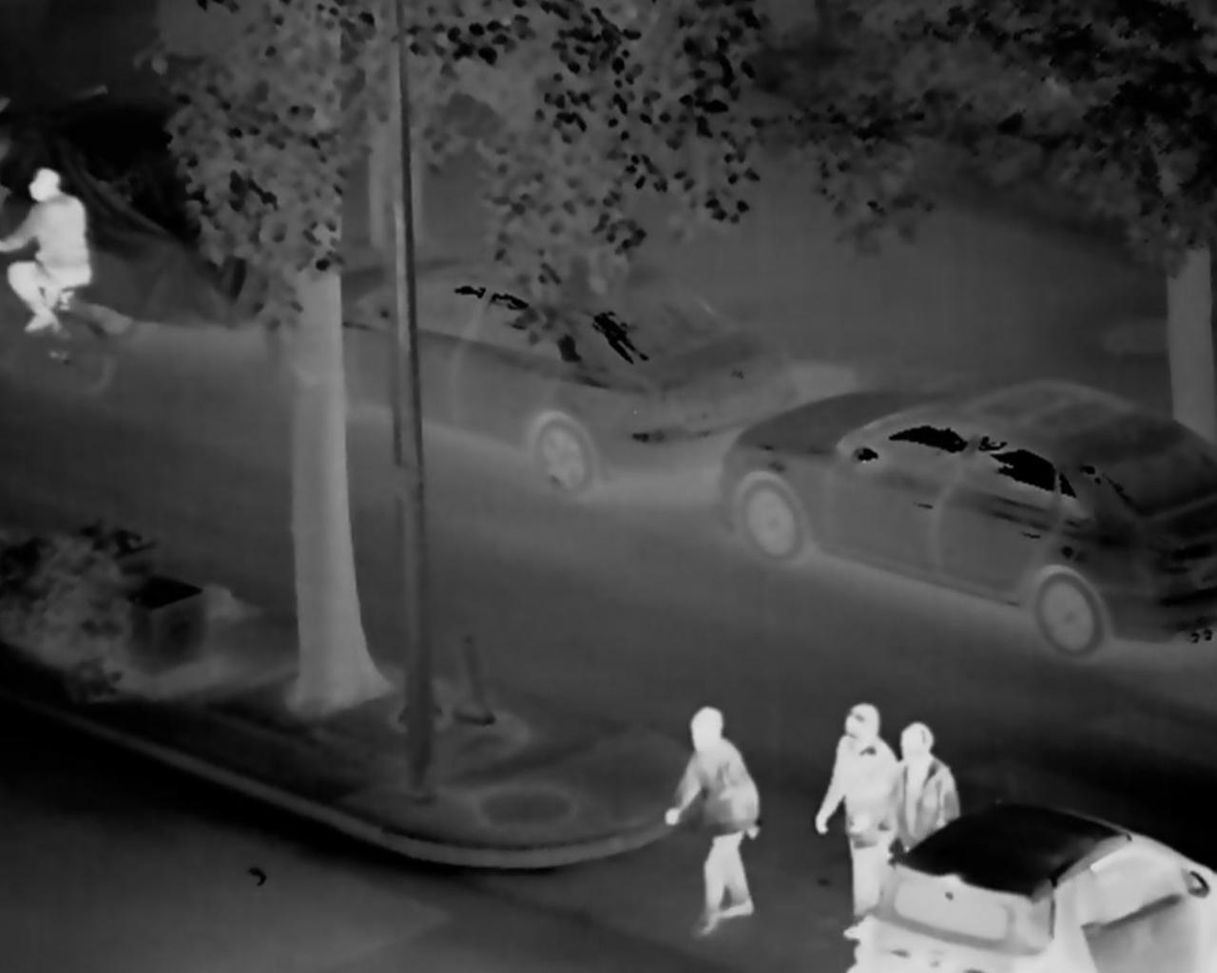person: (666, 696, 770, 938), (814, 696, 897, 915), (886, 724, 969, 919)
